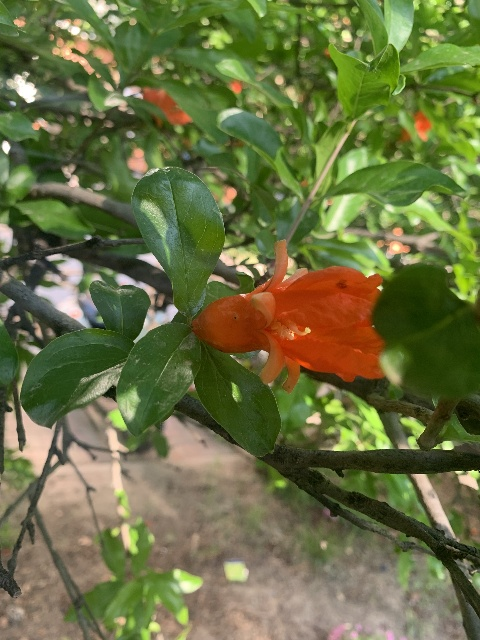flower: (194, 240, 387, 394), (142, 86, 192, 127)
